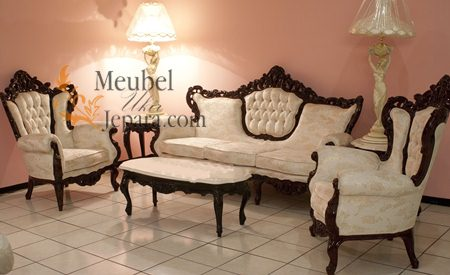Carving Chair: (307, 102, 442, 263), (4, 69, 115, 209)
Carving Table: (118, 158, 253, 237)
